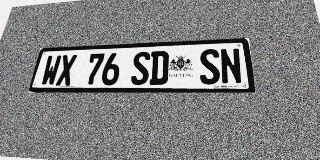6: (101, 53, 122, 85)
7: (84, 53, 105, 85)
D: (149, 51, 169, 85)
N: (219, 48, 243, 84)
S: (199, 49, 221, 85), (130, 51, 151, 85)
W: (40, 55, 62, 86)
X: (55, 54, 77, 86)
